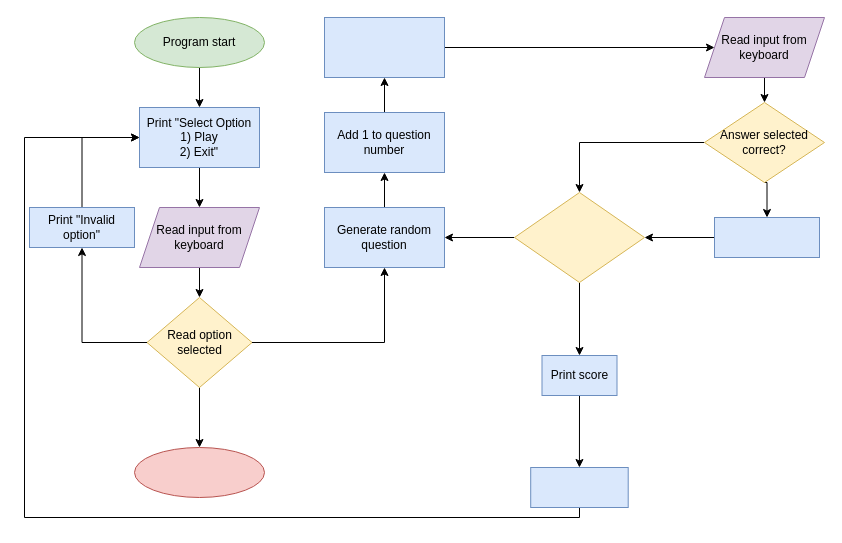
This 842x543 diagram has some shape labels left out. The box of each missing label's shape, as (x1, y1, x2, y2) in pixels:
Add 1 to score: (714, 216, 820, 258)
End: (134, 446, 264, 498)
Is question number 10: (514, 192, 644, 282)
Print question and options: (324, 16, 444, 78)
Save score to file: (530, 466, 628, 508)
